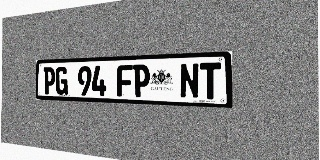4: (92, 65, 106, 96)
9: (78, 66, 92, 96)
F: (117, 65, 133, 97)
G: (55, 67, 68, 95)
N: (180, 63, 199, 99)
P: (133, 64, 150, 97), (43, 67, 55, 95)
T: (200, 62, 221, 100)
